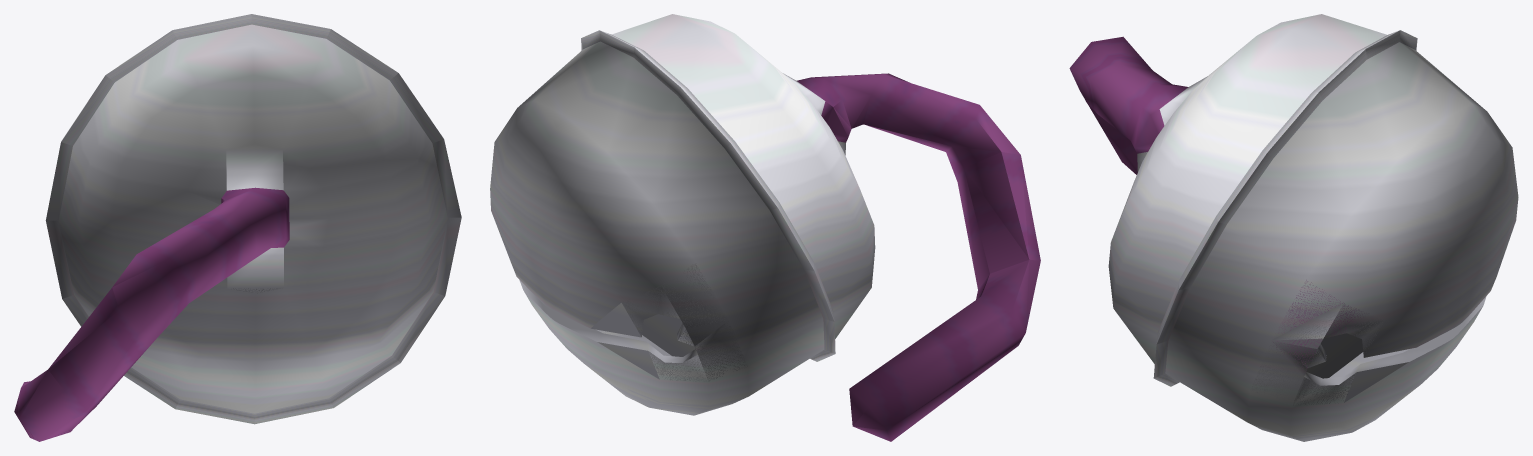
Rendered from cube.ico.obj.
3 renders of one model, left to right at view 1: azimuth 30°, elevation 25°; view 2: azimuth 150°, elevation 25°; view 3: azimuth 270°, elevation 25°, orthographic. The views are drawn at different scales.
Size of the model in its own units: 4.79 by 3.61 by 3.8.
1 material, 1 textured.
